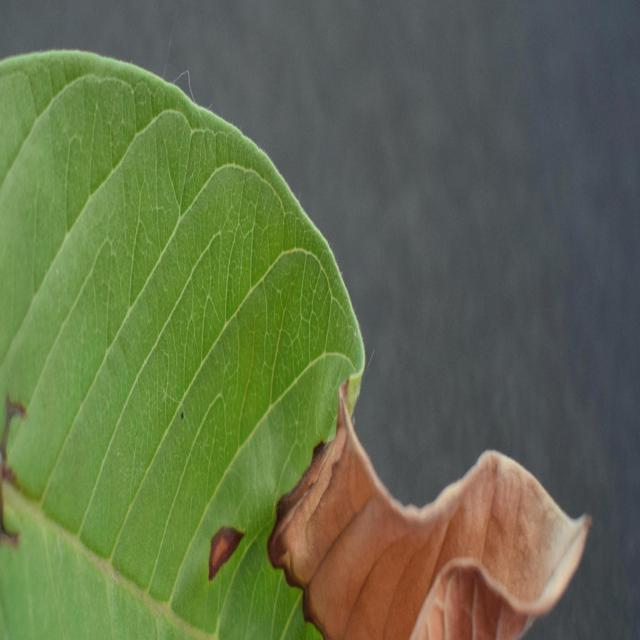Mummification: (0, 52, 590, 639)
